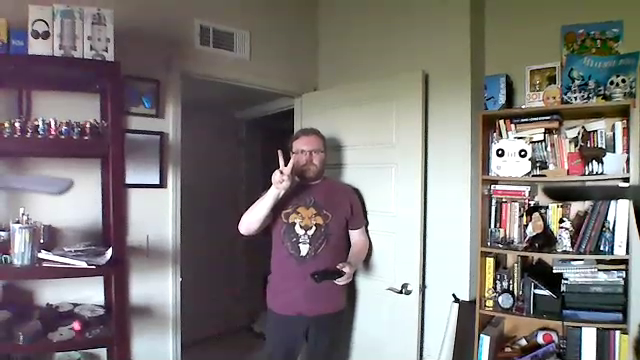peace: (265, 144, 302, 195)
